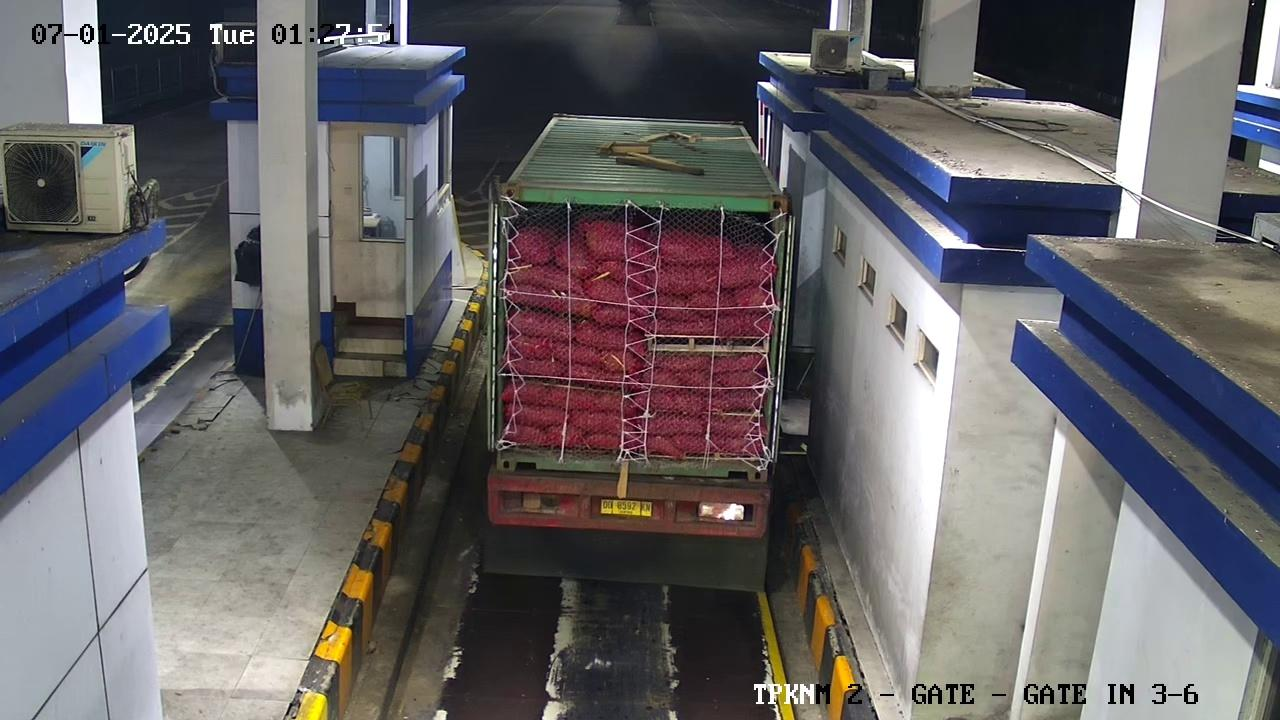plate_number: (595, 486, 658, 526)
